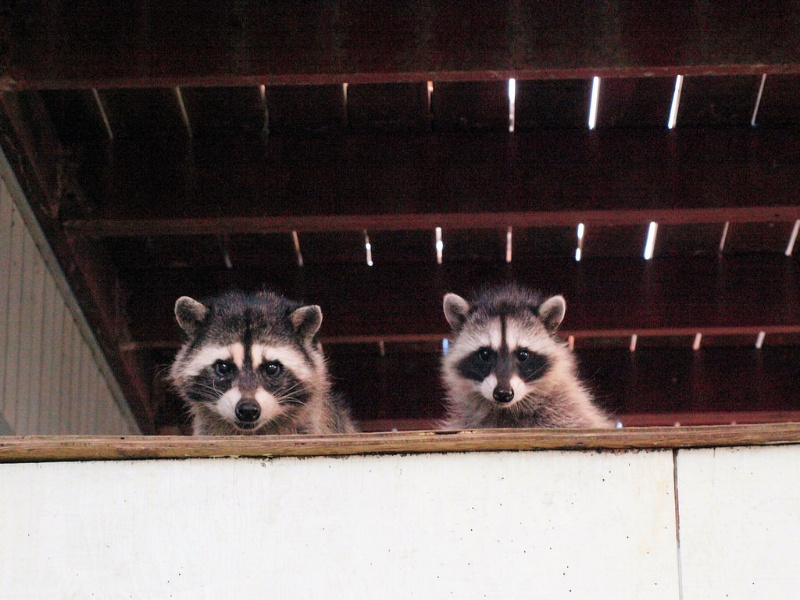raccoon: (419, 280, 629, 442), (159, 289, 358, 437)
